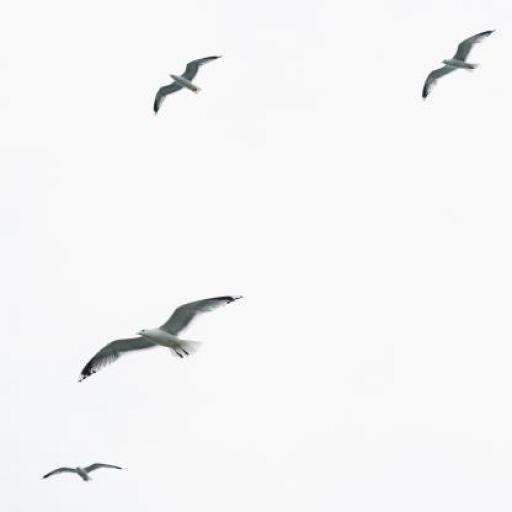bird: (78, 296, 244, 382), (422, 29, 495, 101), (154, 56, 222, 115), (43, 462, 122, 481)
